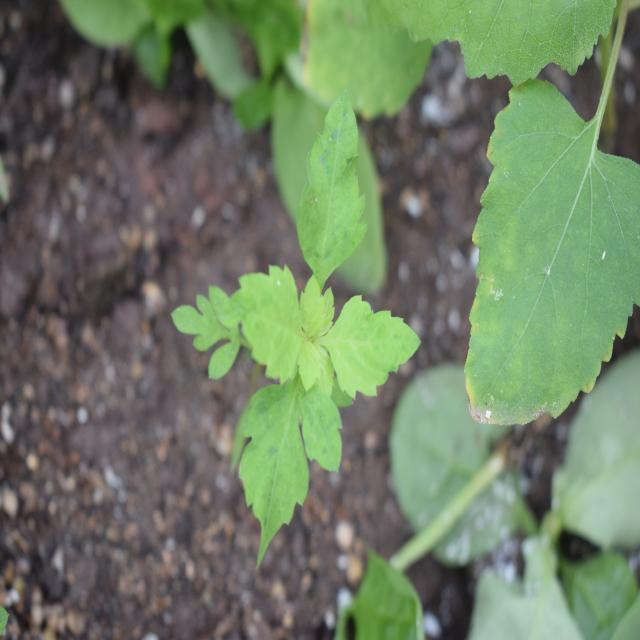Bidens pilosa: (170, 97, 410, 538)
